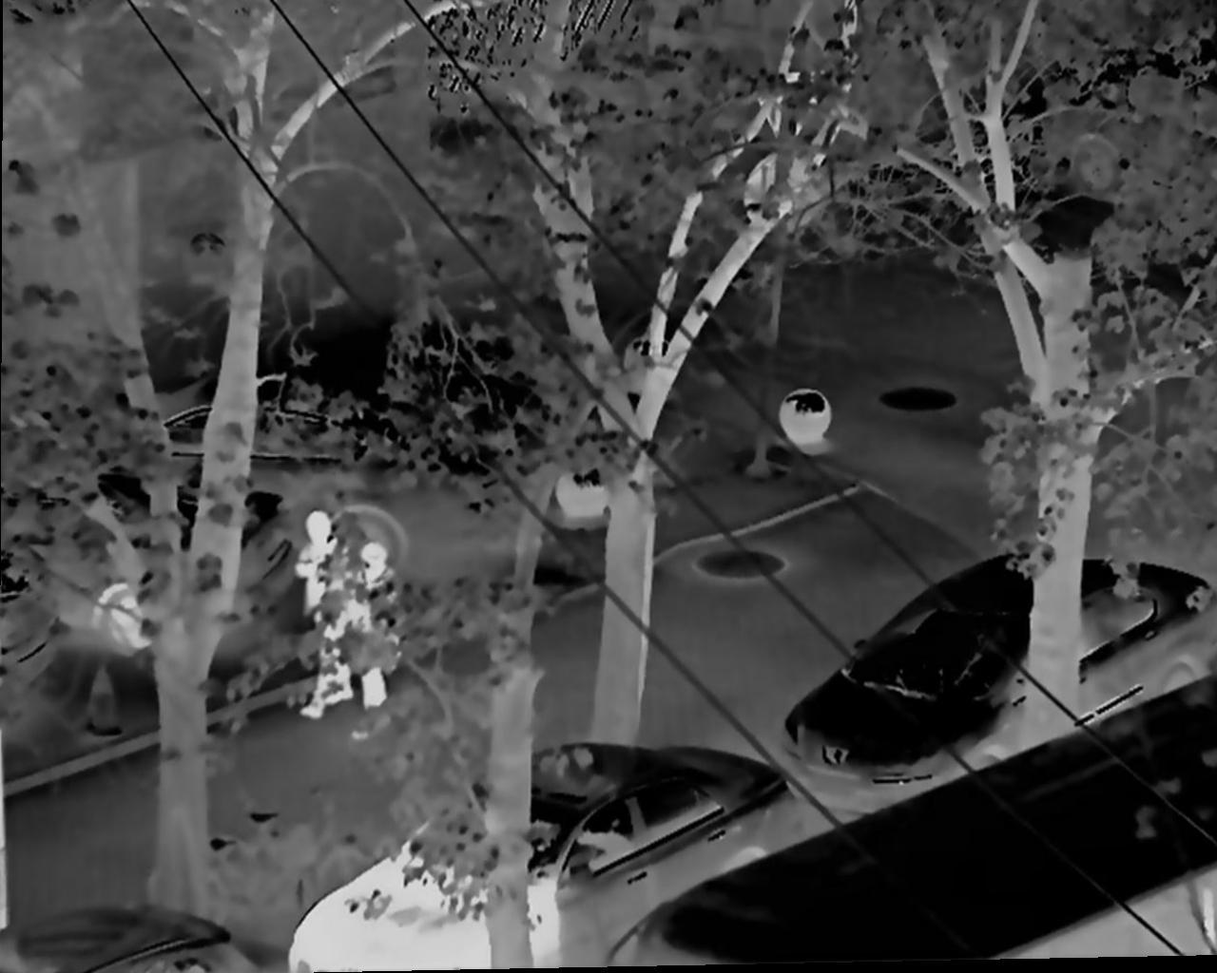person: (292, 511, 353, 718), (350, 543, 397, 716)
